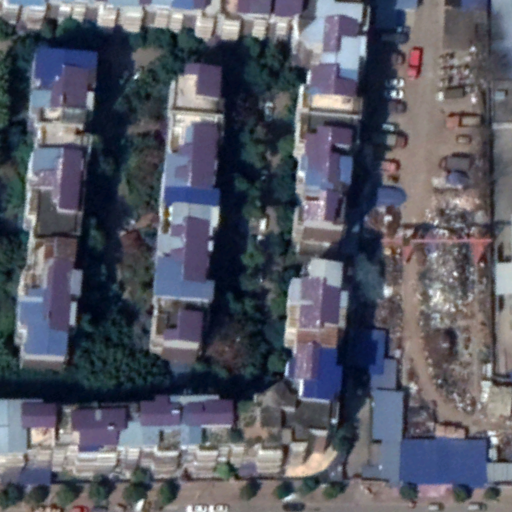msw: (417, 199, 488, 413)
